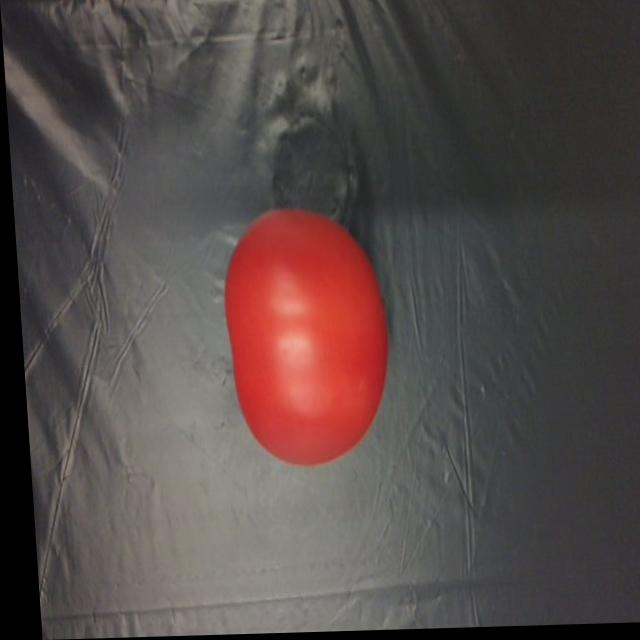kirmizi: (213, 193, 400, 485)
